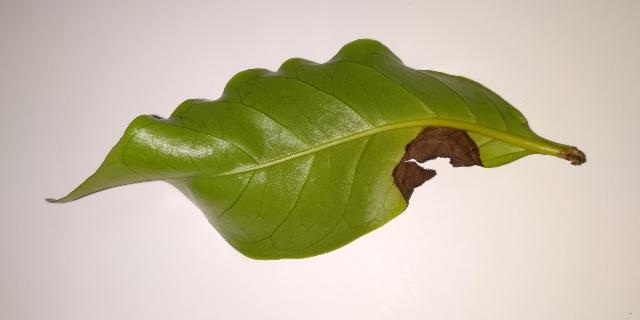rust: (392, 126, 484, 205)
